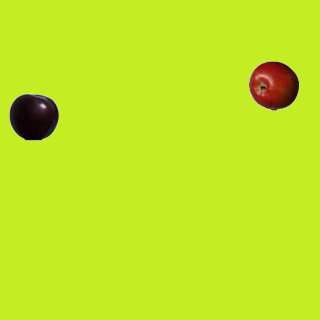Apple Braeburn: (248, 60, 298, 110)
Cherry Wax Black: (8, 91, 58, 141)
